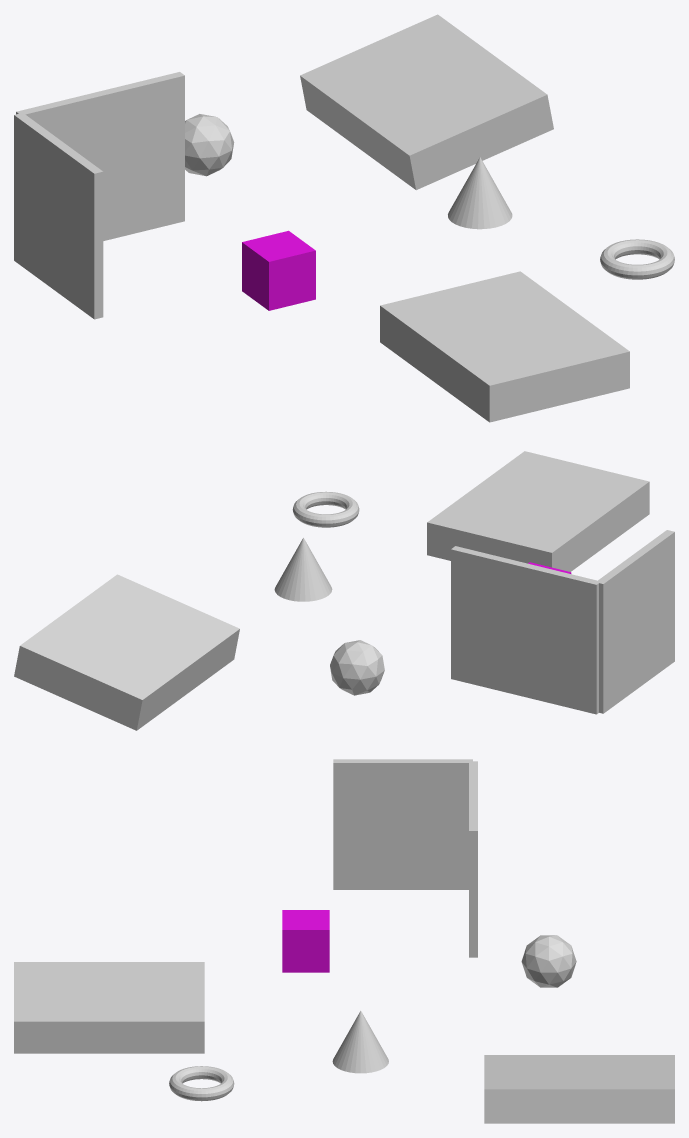
The model's file is map.glb.
3 renders of one model, top to bottom at view 1: azimuth 30°, elevation 25°; view 2: azimuth 150°, elevation 25°; view 3: azimuth 270°, elevation 25°, orthographic. The views are drawn at different scales.
Parts seen in each view (by area): view 1: Cube.002, Cube.004, Cube.005, Cube.003, Cube.001, Cone, Icosphere, Torus; view 2: Cube.002, Cube.005, Cube.004, Cube.003, Icosphere, Cone, Torus; view 3: Cube.003, Cube.004, Cube.002, Cube.001, Icosphere, Cone, Cube.005, Torus.
Boxes of the visible parts, box(x1,y1,x2,y2) form: Cube.002: box(300, 14, 553, 190); Cube.004: box(380, 271, 629, 422); Cube.005: box(16, 72, 184, 240); Cube.003: box(14, 113, 103, 319); Cube.001: box(242, 230, 315, 310); Cone: box(448, 157, 512, 229); Icosphere: box(185, 114, 234, 176); Torus: box(600, 239, 674, 279); Cube.002: box(14, 574, 239, 730); Cube.005: box(451, 546, 600, 714); Cube.004: box(427, 451, 649, 571); Cube.003: box(596, 530, 674, 713); Icosphere: box(330, 640, 384, 695); Cone: box(274, 537, 332, 601); Torus: box(292, 491, 359, 527); Cube.003: box(333, 759, 472, 889); Cube.004: box(14, 962, 204, 1053); Cube.002: box(484, 1055, 674, 1123); Cube.001: box(282, 910, 329, 972); Icosphere: box(521, 935, 576, 987); Cone: box(332, 1010, 388, 1073); Cube.005: box(469, 761, 477, 957); Torus: box(169, 1066, 234, 1101).
Size of what is drawn, in the model's own units: 163 by 51.33 by 197.
